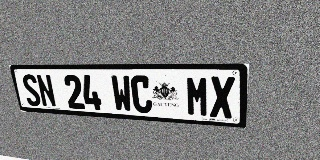2: (63, 75, 85, 109)
4: (80, 75, 102, 110)
C: (130, 75, 153, 114)
M: (186, 76, 209, 117)
N: (35, 74, 57, 108)
S: (21, 74, 42, 107)
W: (110, 75, 133, 112)
X: (210, 76, 235, 119)
